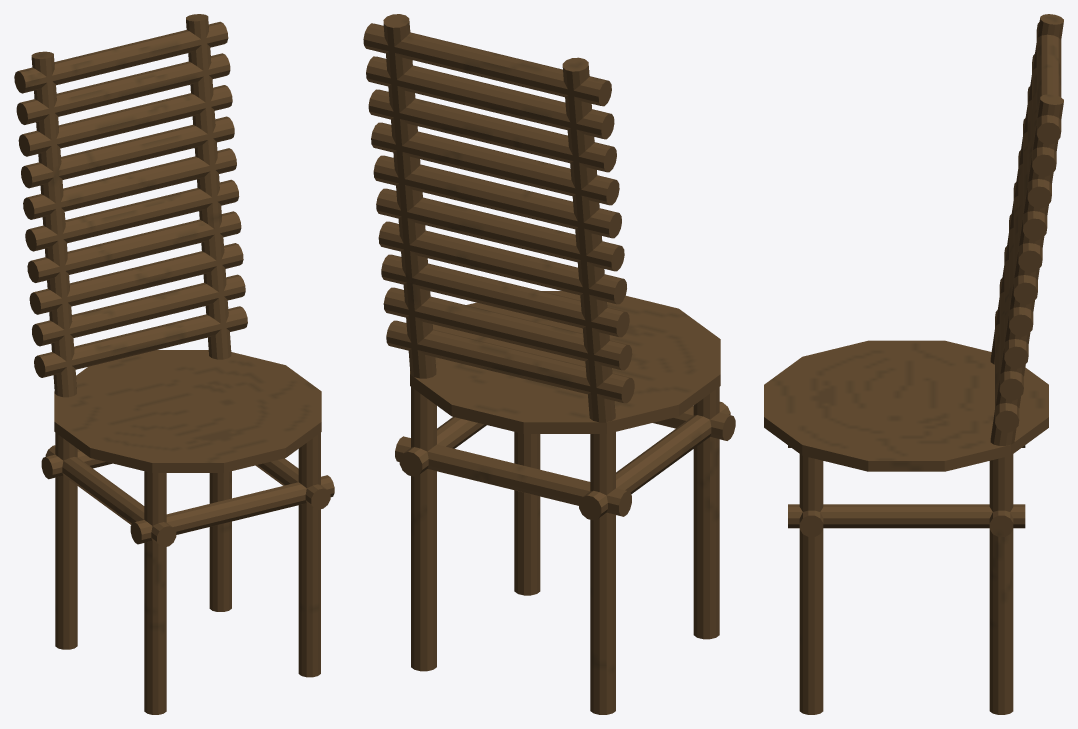
The model's file is chair.fbx.
3 views of the same model, side by side, from view 1: azimuth 30°, elevation 25°; view 2: azimuth 150°, elevation 25°; view 3: azimuth 270°, elevation 25° (orthographic). The views are drawn at different scales.
Visible parts, largest first — view 1: cylinder_4, cylinder_6, cylinder_5, cylinder_3, cylinder_2, cylinder_12, cylinder_14, cylinder_8, cylinder_9, cylinder_15, cylinder_11, cylinder_7 (+9 smaller); view 2: cylinder_4, cylinder_1, cylinder, cylinder_5, cylinder_6, cylinder_10, cylinder_9, cylinder_16, cylinder_14, cylinder_13, cylinder_8, cylinder_15 (+9 smaller); view 3: cylinder_4, cylinder_2, cylinder, cylinder_20, cylinder_5, cylinder_16, cylinder_6, cylinder_9, cylinder_12, cylinder_14, cylinder_8, cylinder_11 (+6 smaller).
Boxes of the visible parts, x1,y1,x2,y2 form: cylinder_4: (54,350,321,472); cylinder_6: (31,51,76,397); cylinder_5: (186,14,231,359); cylinder_3: (144,471,166,714); cylinder_2: (298,432,320,677); cylinder_12: (32,274,245,346); cylinder_14: (18,85,232,156); cylinder_8: (23,148,236,219); cylinder_9: (25,179,239,251); cylinder_15: (16,53,230,124); cylinder_11: (29,243,243,314); cylinder_7: (21,116,234,188); cylinder_4: (410,291,720,433); cylinder_1: (590,432,615,714); cylinder: (411,387,436,671); cylinder_5: (383,14,436,378); cylinder_6: (562,57,615,422); cylinder_10: (378,221,626,304); cylinder_9: (376,188,624,271); cylinder_16: (363,23,611,106); cylinder_14: (368,89,616,172); cylinder_13: (386,320,634,403); cylinder_8: (373,155,621,238); cylinder_15: (366,56,614,139); cylinder_4: (764,340,1048,471); cylinder_2: (799,454,823,714); cylinder: (989,454,1013,714); cylinder_20: (788,504,1025,528); cylinder_5: (990,94,1063,445); cylinder_16: (1036,22,1061,144); cylinder_6: (990,14,1063,364); cylinder_9: (1013,182,1037,304); cylinder_12: (999,278,1023,400); cylinder_14: (1027,86,1051,208); cylinder_8: (1018,150,1042,272); cylinder_11: (1004,246,1028,368).
Bounding box in the file's own units: 75 × 178 × 78.9.
1 material, 1 textured.
